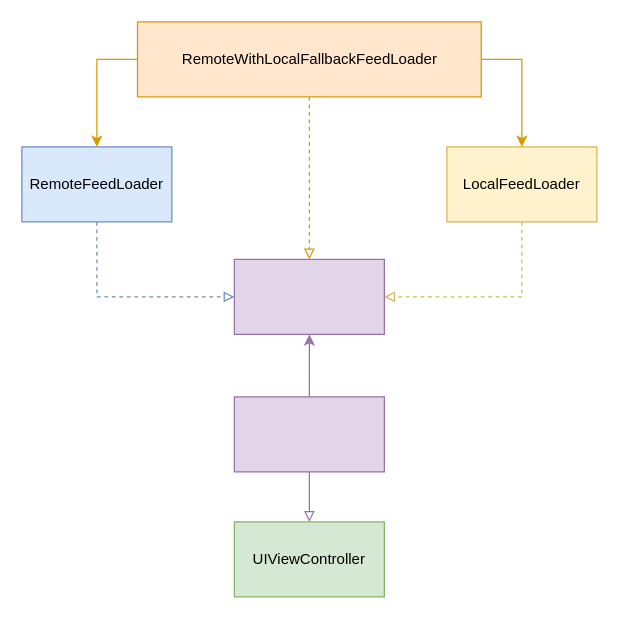
This 619x619 diagram has some shape labels left out. The shapes that lost their labels are listed below. From the top down, each one's centre as x and y in pixels, then its label:
At [308,296]: "<FeedLoader>".
At [308,434]: "FeedViewController".
